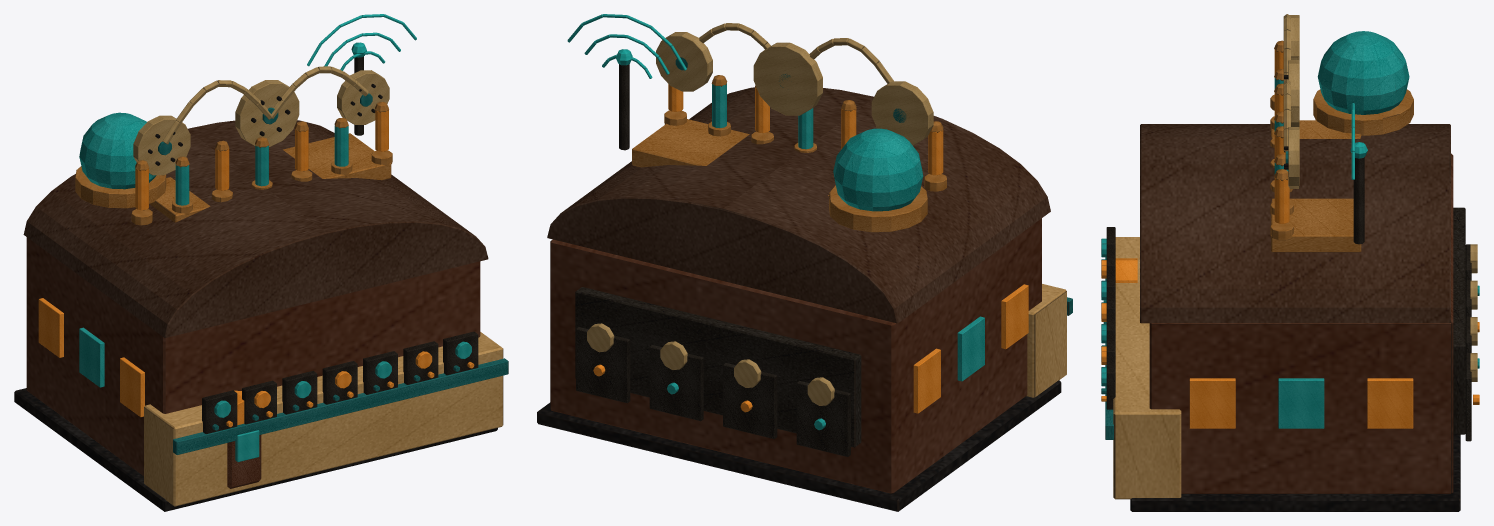
File: exchange.glb
3 views of the same model, side by side, from view 1: azimuth 30°, elevation 25°; view 2: azimuth 150°, elevation 25°; view 3: azimuth 270°, elevation 25° (orthographic). The views are drawn at different scales.
Visible parts, largest first — view 1: ExchangeE7; view 2: ExchangeE7; view 3: ExchangeE7.
Part boxes in pixels (x1,y1,x2,y2): ExchangeE7: (14,14,508,511); ExchangeE7: (537,14,1072,511); ExchangeE7: (1101,14,1479,511).
Bounding box in the file's own units: 6.06 × 5.72 × 5.11.
1 material, 1 textured.
